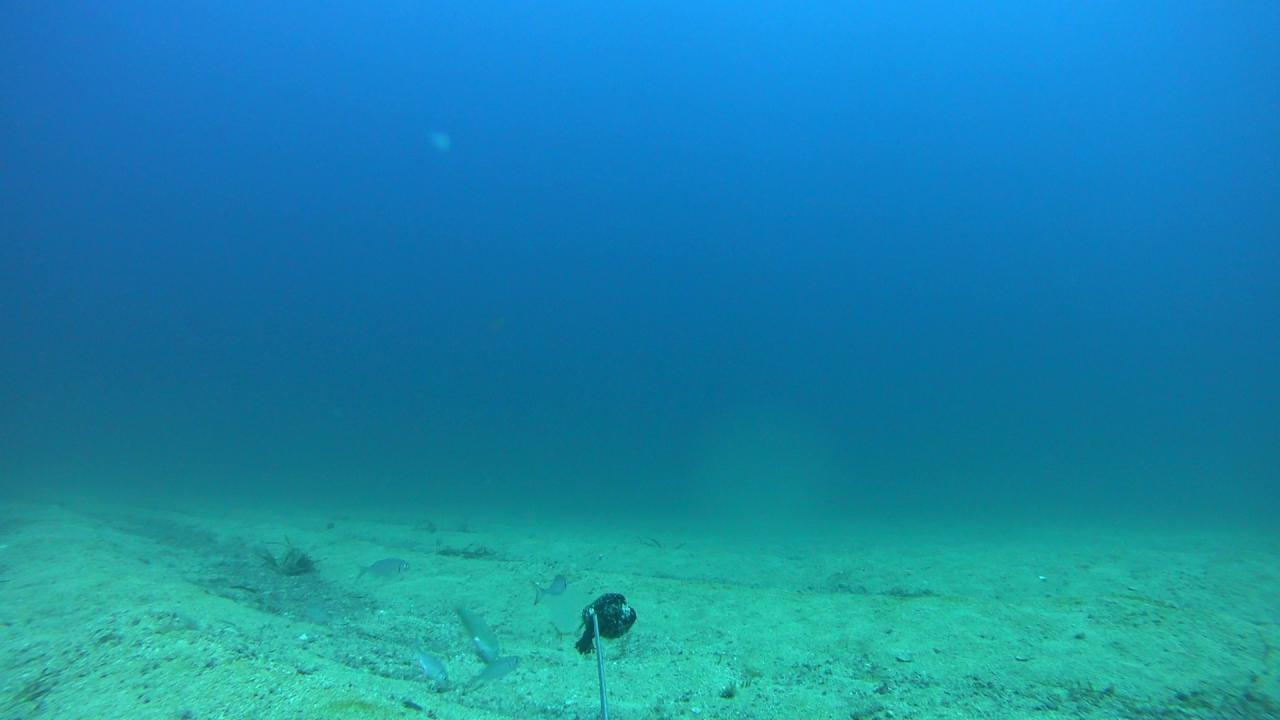pagellus: (355, 556, 410, 580), (532, 572, 567, 604)
